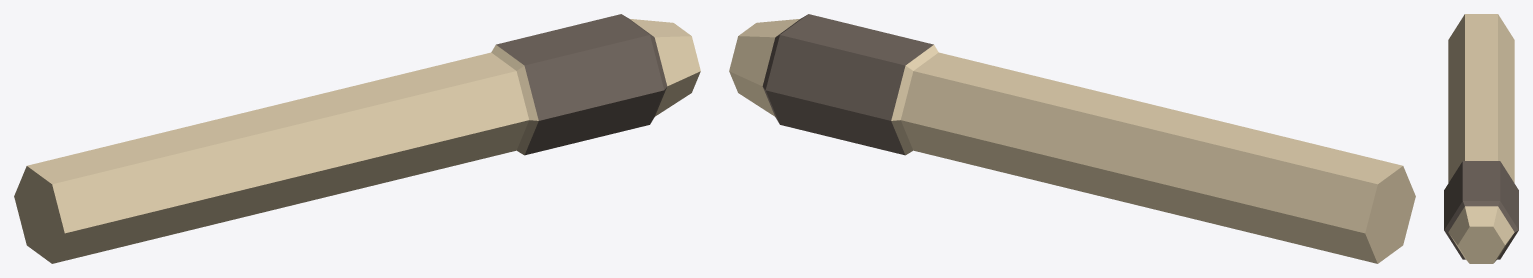
The model's file is prop-whipped-end-blank-rs1.fbx.
The picture shows the model from 3 angles, left to right: view 1: azimuth 30°, elevation 25°; view 2: azimuth 150°, elevation 25°; view 3: azimuth 270°, elevation 25°; orthographic projection. The views are drawn at different scales.
Visible parts, largest first — view 1: prop-whipped-end-blank-rs1; view 2: prop-whipped-end-blank-rs1; view 3: prop-whipped-end-blank-rs1.
Boxes of the visible parts, <box> form: prop-whipped-end-blank-rs1: <box>14,14,700,263</box>; prop-whipped-end-blank-rs1: <box>729,14,1415,263</box>; prop-whipped-end-blank-rs1: <box>1444,14,1518,263</box>.
Bounding box in the file's own units: 20.5 × 2.74 × 3.16.
